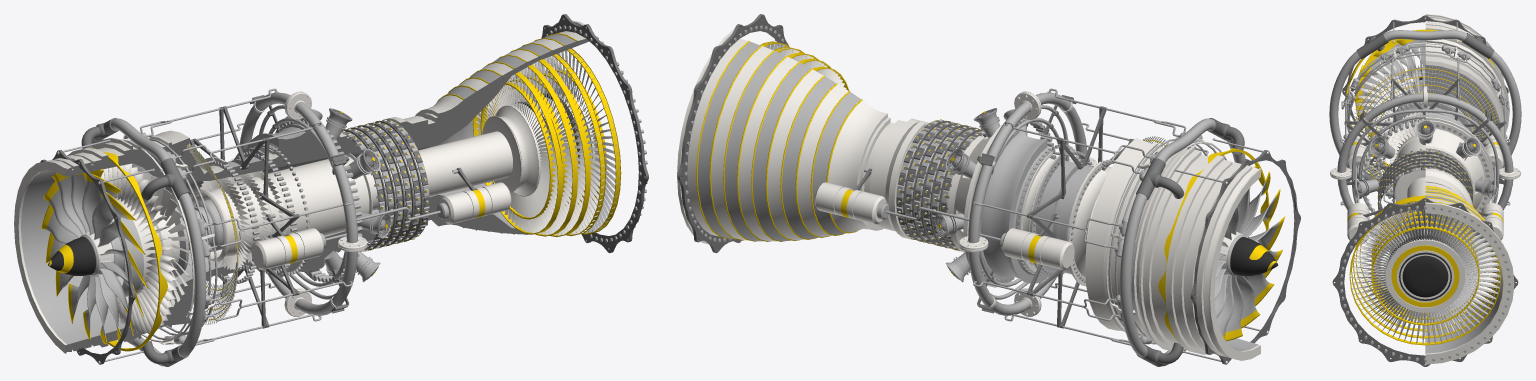
The model's file is JetEngine.fbx.
3 views of the same model, side by side, from view 1: azimuth 30°, elevation 25°; view 2: azimuth 150°, elevation 25°; view 3: azimuth 270°, elevation 25° (orthographic). The views are drawn at different scales.
Visible parts, largest first — view 1: hull_turbine_004_03, hull_turbine_004_01, pipes_turbine_009, blades_turbine_001, hull_turbine_004_02, blades_turbine_004, blades_dividers_turbine_017, plates_turbine_016, mount_turbine_014, canister_turbine_011, blades_turbine_002_non, screws_turbine_001 (+2 smaller); view 2: hull_turbine_004_01, pipes_turbine_009, hull_turbine_004_03, blades_turbine_001, plates_turbine_016, mount_turbine_014, canister_turbine_011, screws_turbine_001, blades_turbine_004, grid_turbine_007, blades_dividers_turbine_017; view 3: hull_turbine_004_01, hull_turbine_004_03, pipes_turbine_009, blades_turbine_004, blades_dividers_turbine_017, grid_turbine_007, canister_turbine_011, blades_turbine_001, mount_turbine_014, plates_turbine_016, screws_turbine_001, blades_turbine_002_non (+1 smaller).
Boxes of the visible parts, left/top/right/bottom form: hull_turbine_004_03: left=40, top=14, right=648, bottom=364; hull_turbine_004_01: left=14, top=20, right=585, bottom=352; pipes_turbine_009: left=81, top=88, right=448, bottom=366; blades_turbine_001: left=41, top=169, right=190, bottom=344; hull_turbine_004_02: left=65, top=38, right=589, bottom=353; blades_turbine_004: left=475, top=49, right=619, bottom=235; blades_dividers_turbine_017: left=473, top=48, right=621, bottom=237; plates_turbine_016: left=341, top=119, right=429, bottom=251; mount_turbine_014: left=57, top=91, right=475, bottom=363; canister_turbine_011: left=123, top=132, right=511, bottom=344; blades_turbine_002_non: left=100, top=163, right=177, bottom=333; screws_turbine_001: left=208, top=25, right=647, bottom=283; hull_turbine_004_01: left=677, top=28, right=1260, bottom=360; pipes_turbine_009: left=877, top=88, right=1249, bottom=366; hull_turbine_004_03: left=677, top=14, right=1300, bottom=364; blades_turbine_001: left=1214, top=166, right=1285, bottom=341; plates_turbine_016: left=896, top=119, right=986, bottom=251; mount_turbine_014: left=853, top=91, right=1268, bottom=363; canister_turbine_011: left=814, top=118, right=1214, bottom=344; screws_turbine_001: left=684, top=25, right=1115, bottom=282; blades_turbine_004: left=763, top=42, right=846, bottom=88; grid_turbine_007: left=936, top=109, right=1169, bottom=279; blades_dividers_turbine_017: left=760, top=41, right=849, bottom=90; hull_turbine_004_01: left=1425, top=14, right=1514, bottom=364; hull_turbine_004_03: left=1332, top=15, right=1518, bottom=366; pipes_turbine_009: left=1329, top=30, right=1521, bottom=241; blades_turbine_004: left=1350, top=201, right=1500, bottom=343; blades_dividers_turbine_017: left=1349, top=195, right=1501, bottom=345; grid_turbine_007: left=1351, top=64, right=1499, bottom=230; canister_turbine_011: left=1343, top=45, right=1507, bottom=244; blades_turbine_001: left=1354, top=39, right=1425, bottom=142; mount_turbine_014: left=1330, top=22, right=1520, bottom=236; plates_turbine_016: left=1377, top=149, right=1473, bottom=229; screws_turbine_001: left=1339, top=102, right=1510, bottom=361; blades_turbine_002_non: left=1356, top=47, right=1421, bottom=164.
Size of the model in its own units: 412 by 162 by 163.
